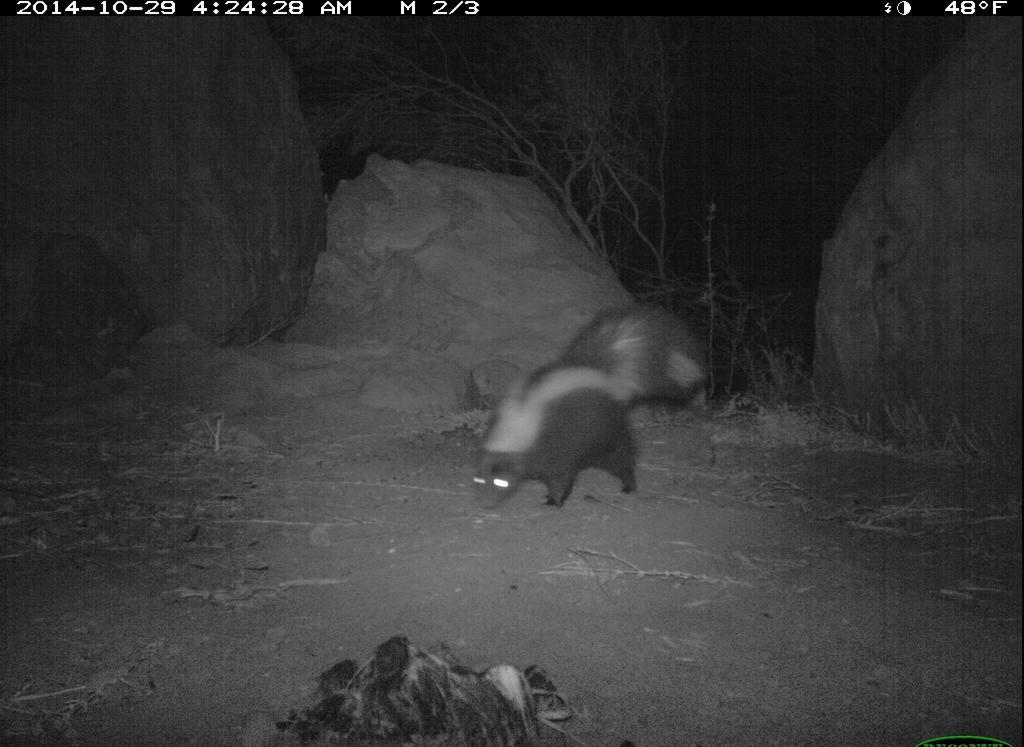skunk: (461, 297, 708, 516)
